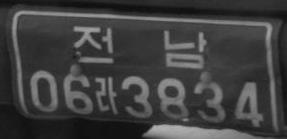0: (28, 68, 58, 113)
3: (121, 74, 154, 120), (193, 78, 226, 124)
4: (233, 80, 264, 128)
6: (62, 70, 94, 116)
8: (156, 76, 190, 120)
라: (94, 75, 119, 115)
전남_D: (72, 24, 208, 69)
